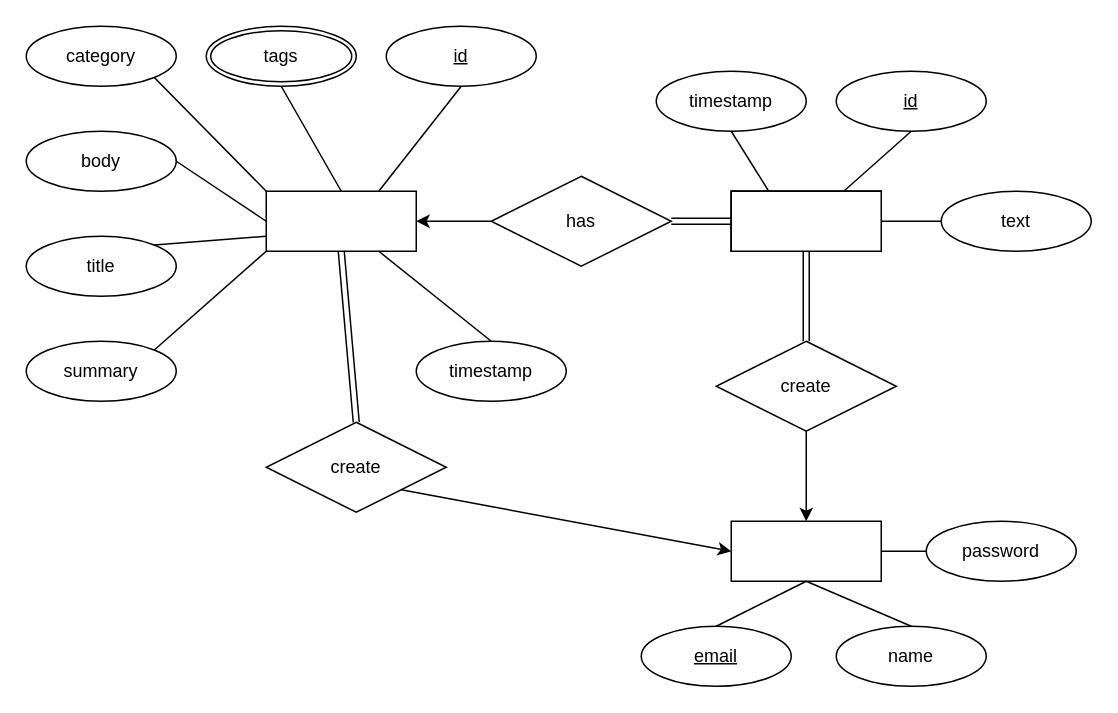
This 1118x713 diagram has some shape labels left out. The box of each missing label's shape, as (x1, y1, x2, y2) in pixels:
Comment: (730, 190, 881, 251)
Post: (265, 190, 416, 251)
User: (730, 520, 881, 581)
